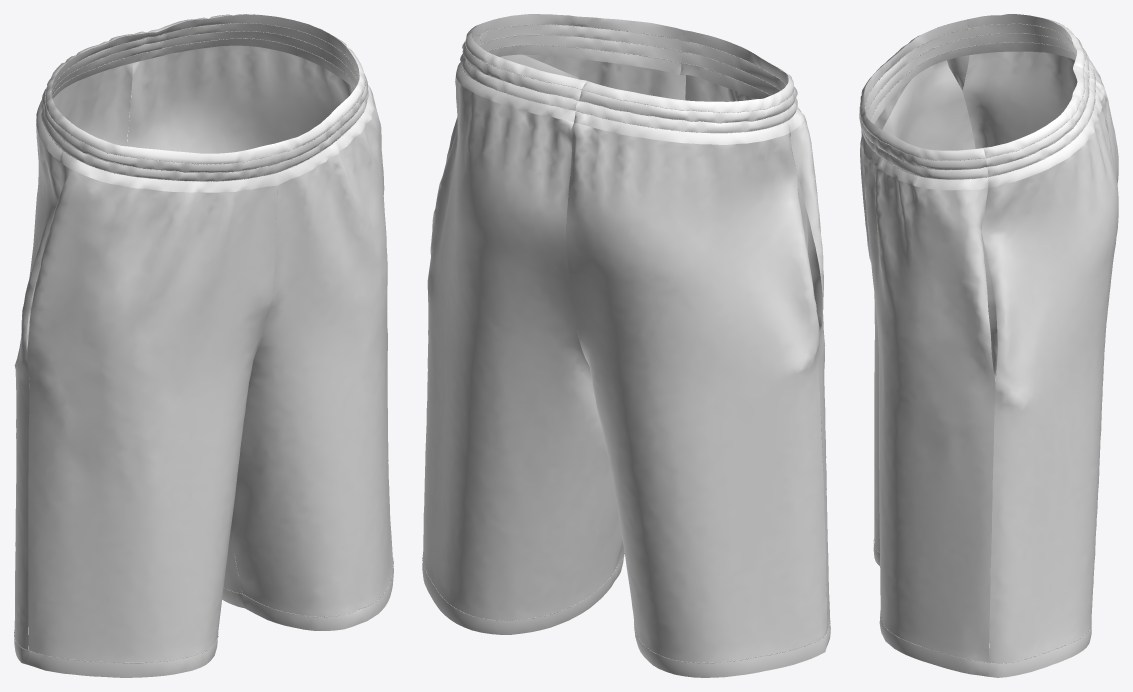
Rendered from Panta SHAQ.draco.glb.
3 views of the same model, side by side, from view 1: azimuth 30°, elevation 25°; view 2: azimuth 150°, elevation 25°; view 3: azimuth 270°, elevation 25° (orthographic). The views are drawn at different scales.
Visible parts, largest first — view 1: PANTA SHAQ.DX AVANTI, PANTA SHAQ.SX AVANTI, PANTA SHAQ.SX DIETRO, PANTA SHAQ.DX DIETRO, PANTA SHAQ; view 2: PANTA SHAQ.DX DIETRO, PANTA SHAQ.SX DIETRO, PANTA SHAQ.SX AVANTI, PANTA SHAQ.DX AVANTI, PANTA SHAQ, PANTA SHAQ.TASCA DX; view 3: PANTA SHAQ.SX DIETRO, PANTA SHAQ.SX AVANTI, PANTA SHAQ.DX DIETRO, PANTA SHAQ.DX AVANTI, PANTA SHAQ.TASCA DX, PANTA SHAQ, PANTA SHAQ.TASCA SX.
Boxes of the visible parts, x1,y1,x2,y2 form: PANTA SHAQ.DX AVANTI: (27,123,277,677); PANTA SHAQ.SX AVANTI: (231,46,393,630); PANTA SHAQ.SX DIETRO: (127,14,351,608); PANTA SHAQ.DX DIETRO: (14,31,149,665); PANTA SHAQ: (14,23,393,663); PANTA SHAQ.DX DIETRO: (565,81,828,677); PANTA SHAQ.SX DIETRO: (422,23,621,634); PANTA SHAQ.SX AVANTI: (446,14,685,580); PANTA SHAQ.DX AVANTI: (680,30,830,645); PANTA SHAQ: (422,24,830,663); PANTA SHAQ.TASCA DX: (790,133,822,381); PANTA SHAQ.SX DIETRO: (981,65,1118,677); PANTA SHAQ.SX AVANTI: (859,105,995,676); PANTA SHAQ.DX DIETRO: (962,14,1118,345); PANTA SHAQ.DX AVANTI: (859,19,970,565); PANTA SHAQ.TASCA DX: (882,60,985,250); PANTA SHAQ: (859,23,1095,663); PANTA SHAQ.TASCA SX: (981,233,997,426).
Size of the model in its own units: 42.13 by 59.48 by 26.39.
Materials: 7 (1 with a texture image).
